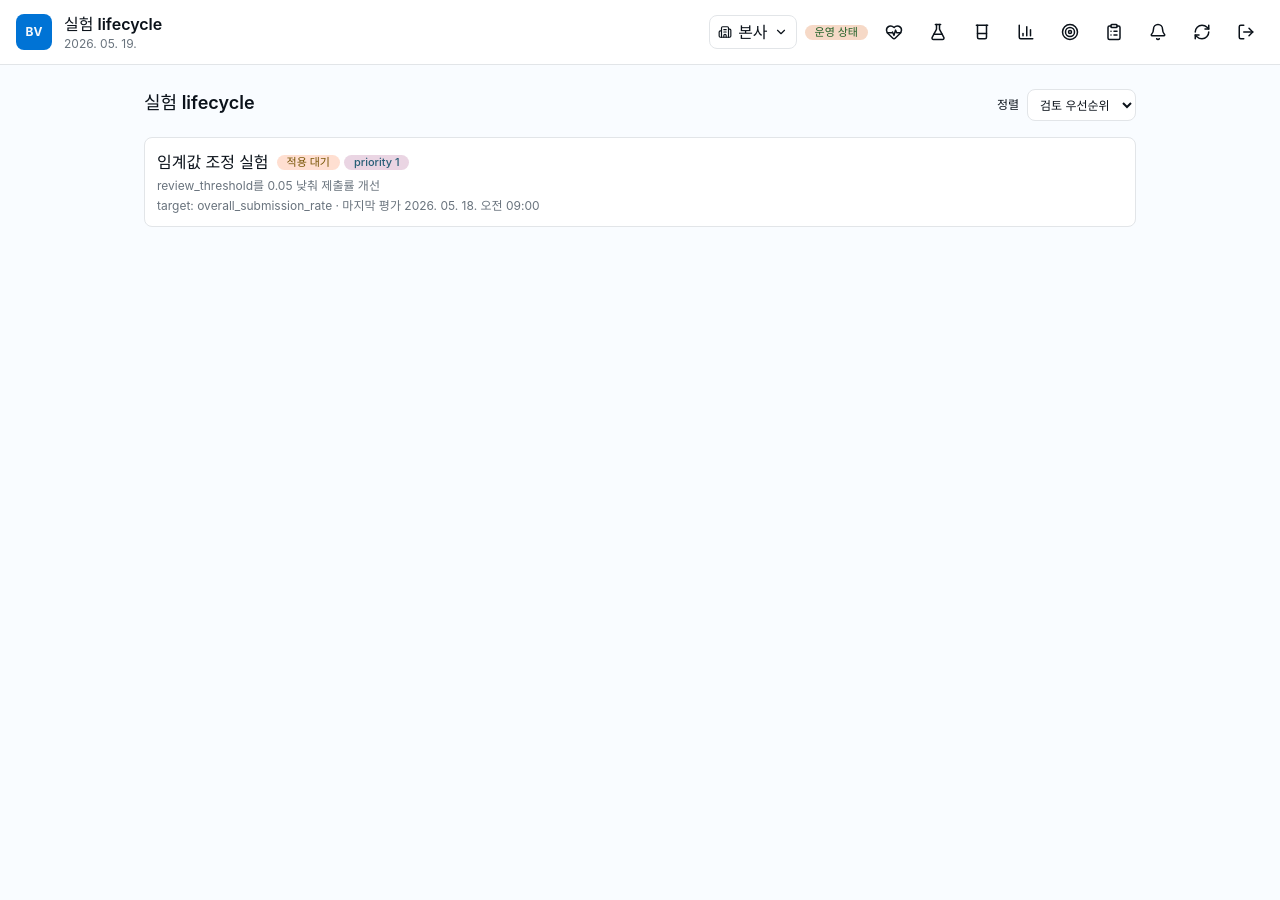
Test: ExperimentsScreen › Dry-run 결과를 확인한 뒤에만 Force 적용 버튼이 활성화된다
The image size is (1280, 900).
Expected: the heading "실험 lifecycle" is shown, left=144, top=89, right=254, bottom=117
Click the button "임계값 조정 실험" at coordinates (213, 162), box left=144, top=137, right=1136, bottom=227
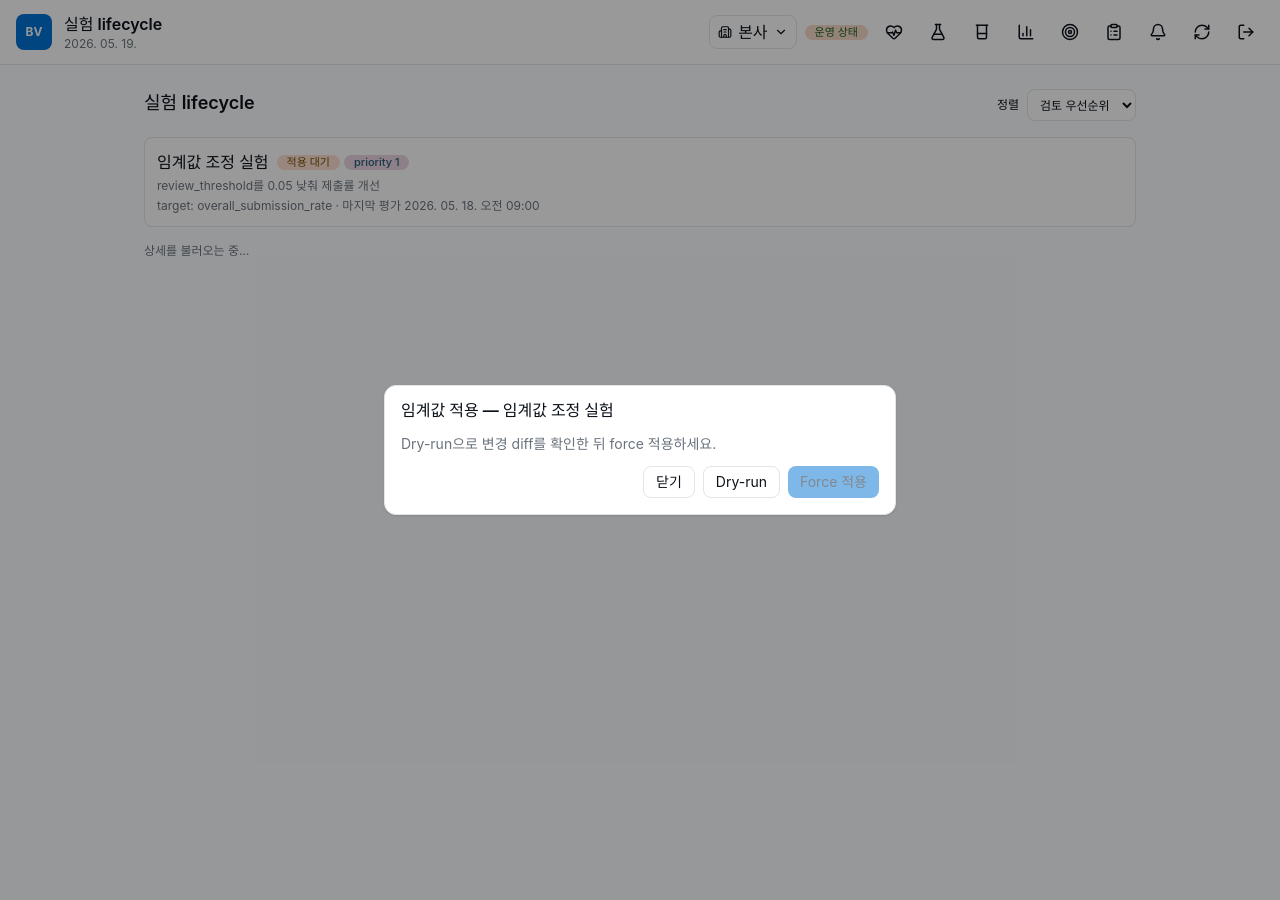
Expected: the button "Force 적용" is disabled, left=788, top=466, right=879, bottom=498
Click the button "Dry-run" at coordinates (741, 482), box left=703, top=466, right=780, bottom=498
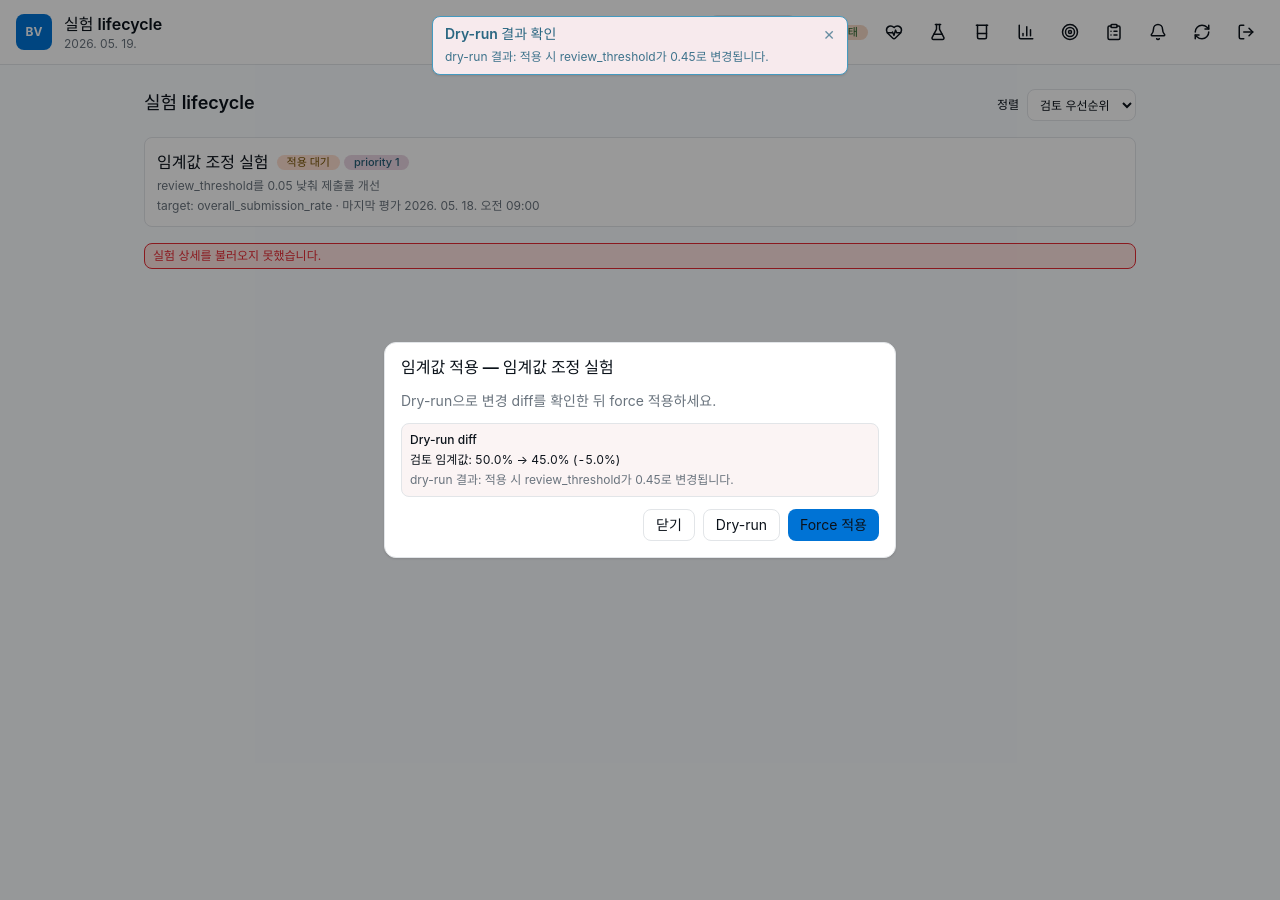
Expected: the text "Dry-run diff" is shown, left=410, top=432, right=477, bottom=447
